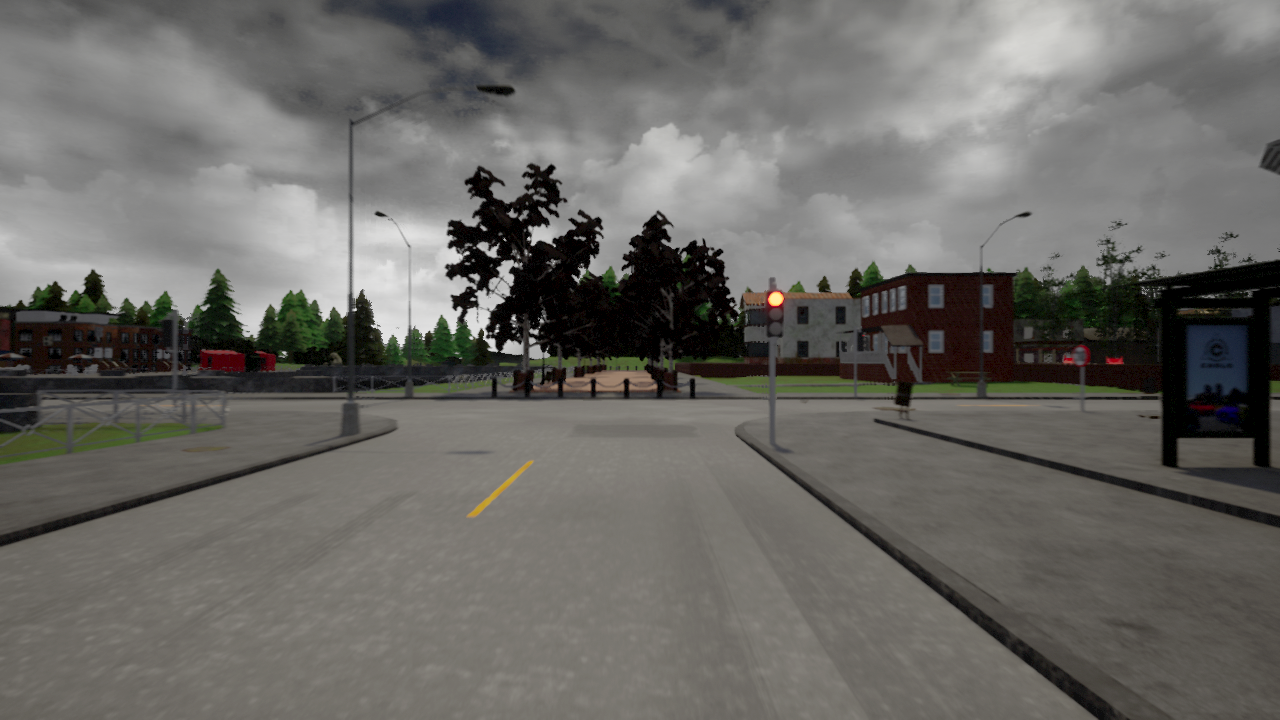red: (765, 288, 787, 341)
